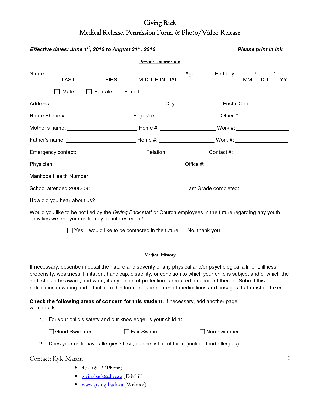checkbox: (123, 327, 131, 336), (197, 328, 207, 335), (84, 88, 94, 95), (52, 88, 61, 95), (67, 226, 74, 234), (48, 327, 55, 335), (181, 226, 187, 234)
textline: (95, 194, 291, 205), (89, 170, 291, 180), (140, 84, 291, 96), (46, 66, 186, 78), (54, 158, 185, 169), (51, 98, 166, 109), (89, 183, 186, 193), (76, 144, 146, 156), (234, 145, 292, 158), (65, 134, 138, 144), (205, 159, 278, 169), (158, 109, 221, 120), (66, 109, 134, 119), (65, 122, 139, 131), (235, 122, 291, 133), (157, 134, 217, 144), (238, 182, 292, 193), (159, 122, 218, 132), (234, 134, 291, 144), (166, 145, 210, 156), (177, 98, 223, 108), (253, 98, 291, 109), (241, 112, 289, 120), (195, 68, 215, 78), (256, 68, 275, 77), (236, 68, 255, 76), (275, 68, 291, 77)
